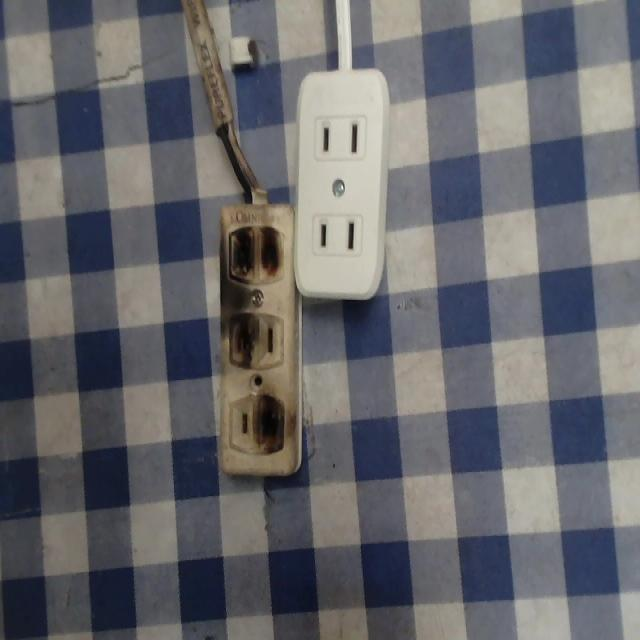-: (226, 219, 290, 284), (256, 389, 298, 455), (221, 310, 266, 370)
